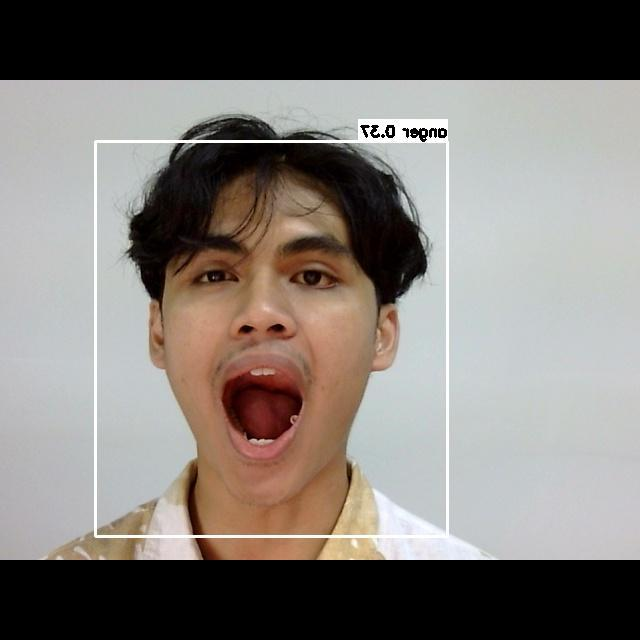Surprised: (161, 205, 379, 467)
